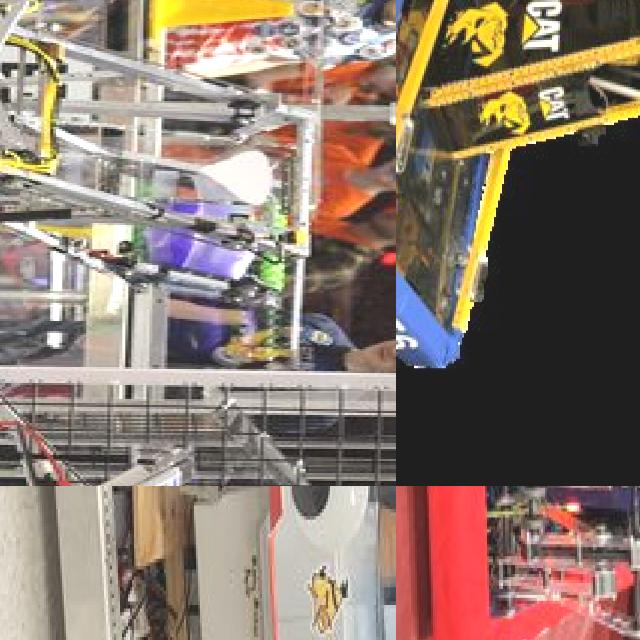FRC-Robots: (396, 0, 640, 486), (0, 0, 325, 355), (56, 486, 396, 640), (401, 486, 640, 640)
